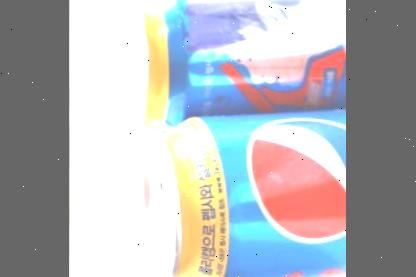Can: (139, 106, 346, 277), (114, 0, 346, 133)
